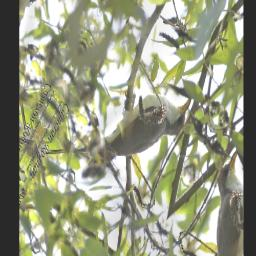Cuckoo: (46, 11, 197, 245)
